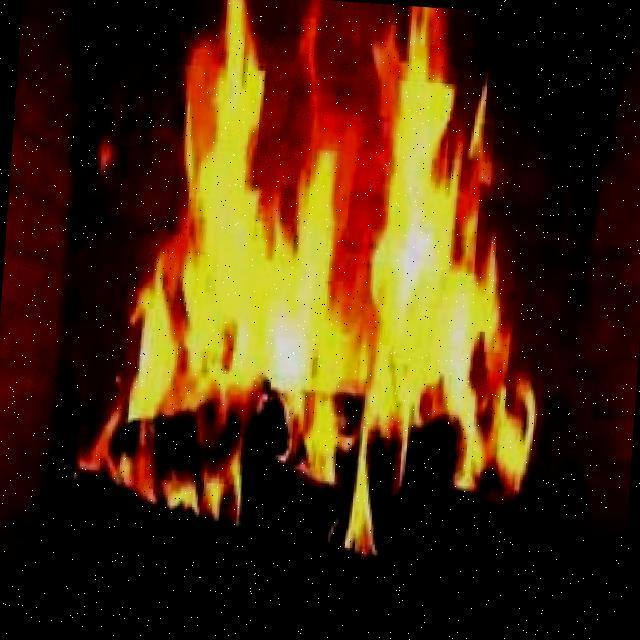Fire: (140, 48, 545, 498)
